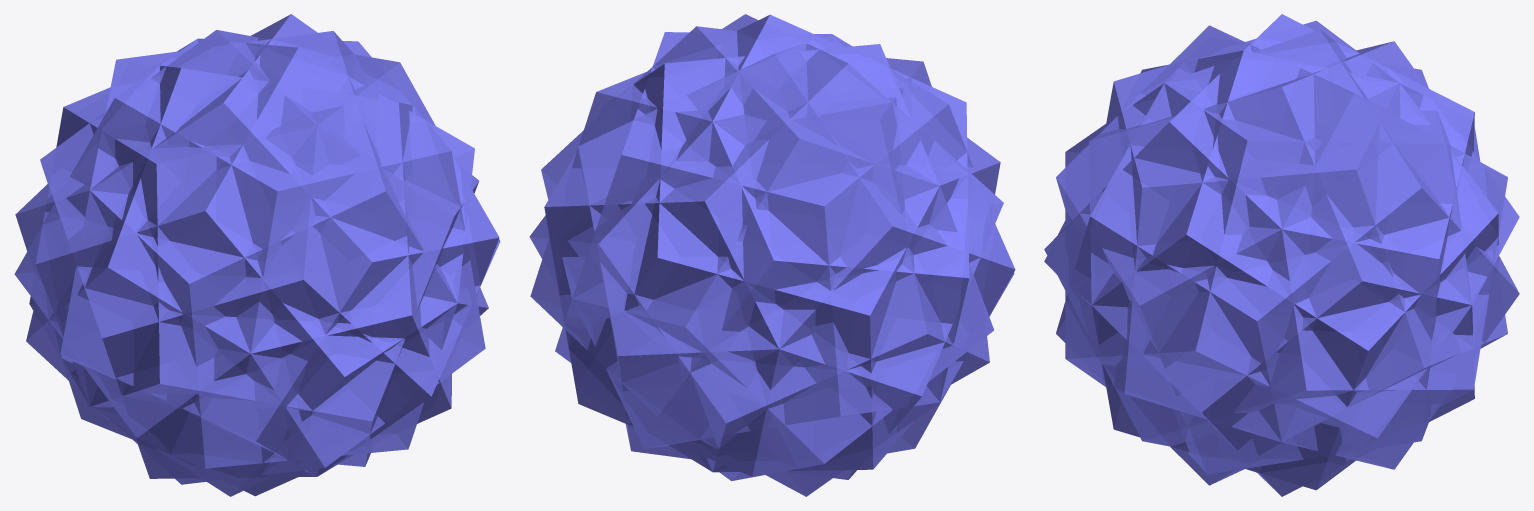
The model's file is GreatPentagonalHexecontahedron.obj.
3 views of the same model, side by side, from view 1: azimuth 30°, elevation 25°; view 2: azimuth 150°, elevation 25°; view 3: azimuth 270°, elevation 25° (orthographic).
Size of the model in its own units: 1.42 by 1.42 by 1.42.
